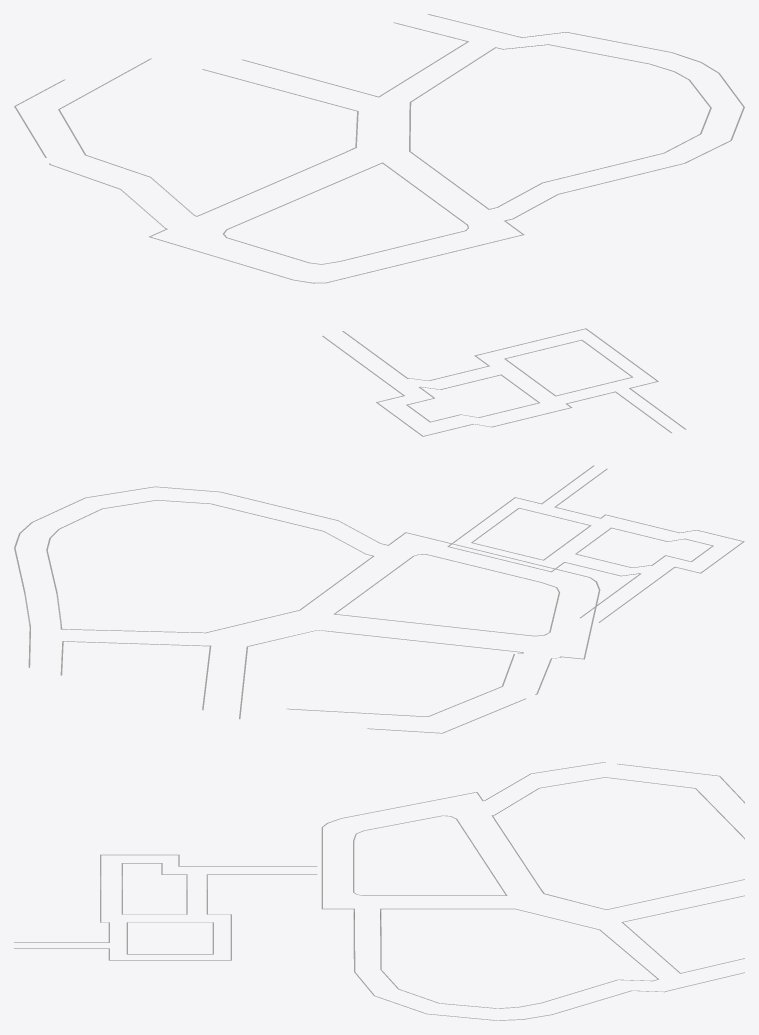
File: kd_stage_1363c5_9_10_bounded.glb
3 views of the same model, one above another, from view 1: azimuth 30°, elevation 25°; view 2: azimuth 150°, elevation 25°; view 3: azimuth 270°, elevation 25° (orthographic). The views are drawn at different scales.
Parts seen in each view (by area): view 1: kd_stage_1363c5_9_10_bounded; view 2: kd_stage_1363c5_9_10_bounded; view 3: kd_stage_1363c5_9_10_bounded.
Boxes of the visible parts, bbox=[...] form: kd_stage_1363c5_9_10_bounded: bbox=[14, 14, 744, 436]; kd_stage_1363c5_9_10_bounded: bbox=[14, 465, 744, 733]; kd_stage_1363c5_9_10_bounded: bbox=[14, 762, 744, 1020].
Size of the model in its own units: 111 by 13.94 by 137.
Materials: 1 (1 with a texture image).
